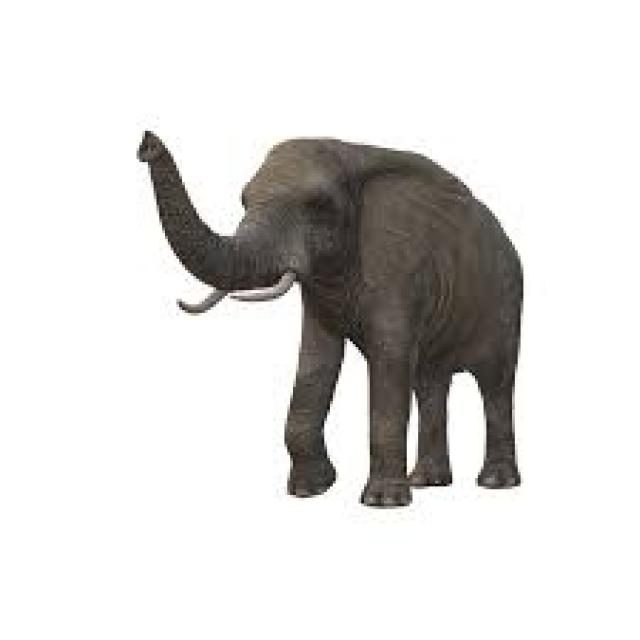Elephant: (134, 128, 523, 506)
